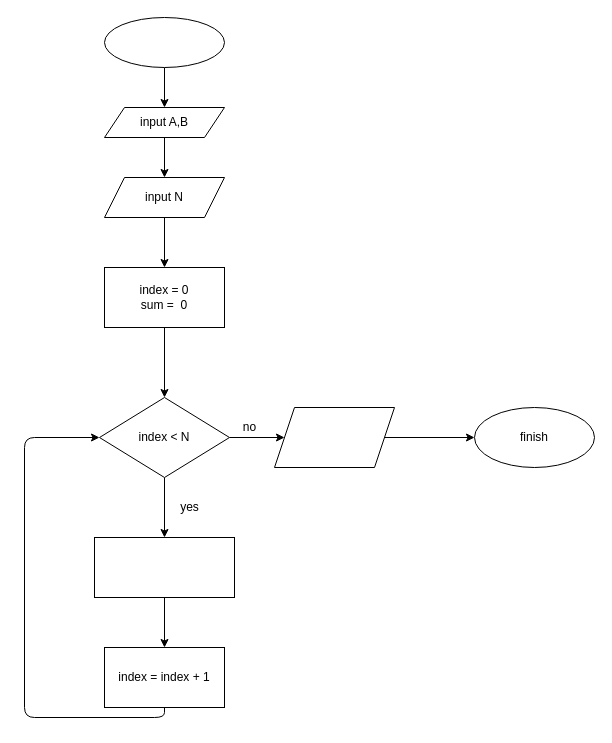
Image size: 612x743. Some labels were removed from this diagram. The centre of each missing label's shape, as x and y in pixels:
output sum: (334,437)
start: (164,42)
sum = sum + A[index] * B[index]: (164,567)
